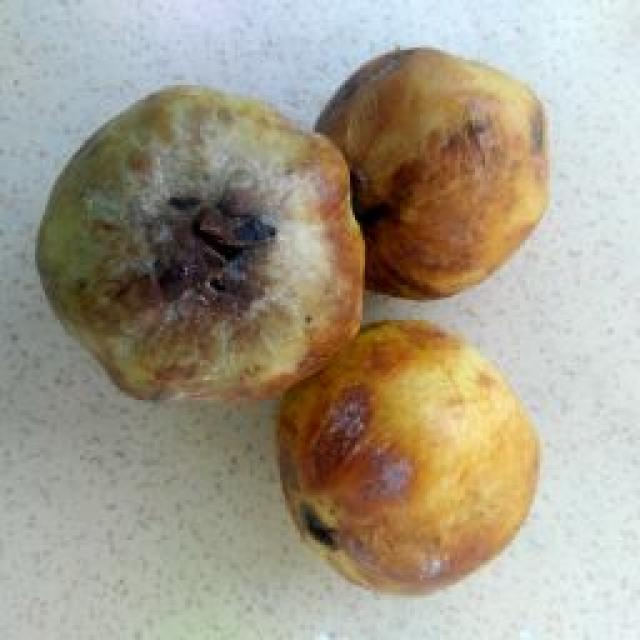Bad_Guava: (40, 88, 365, 399), (281, 321, 539, 593), (315, 48, 549, 298)
